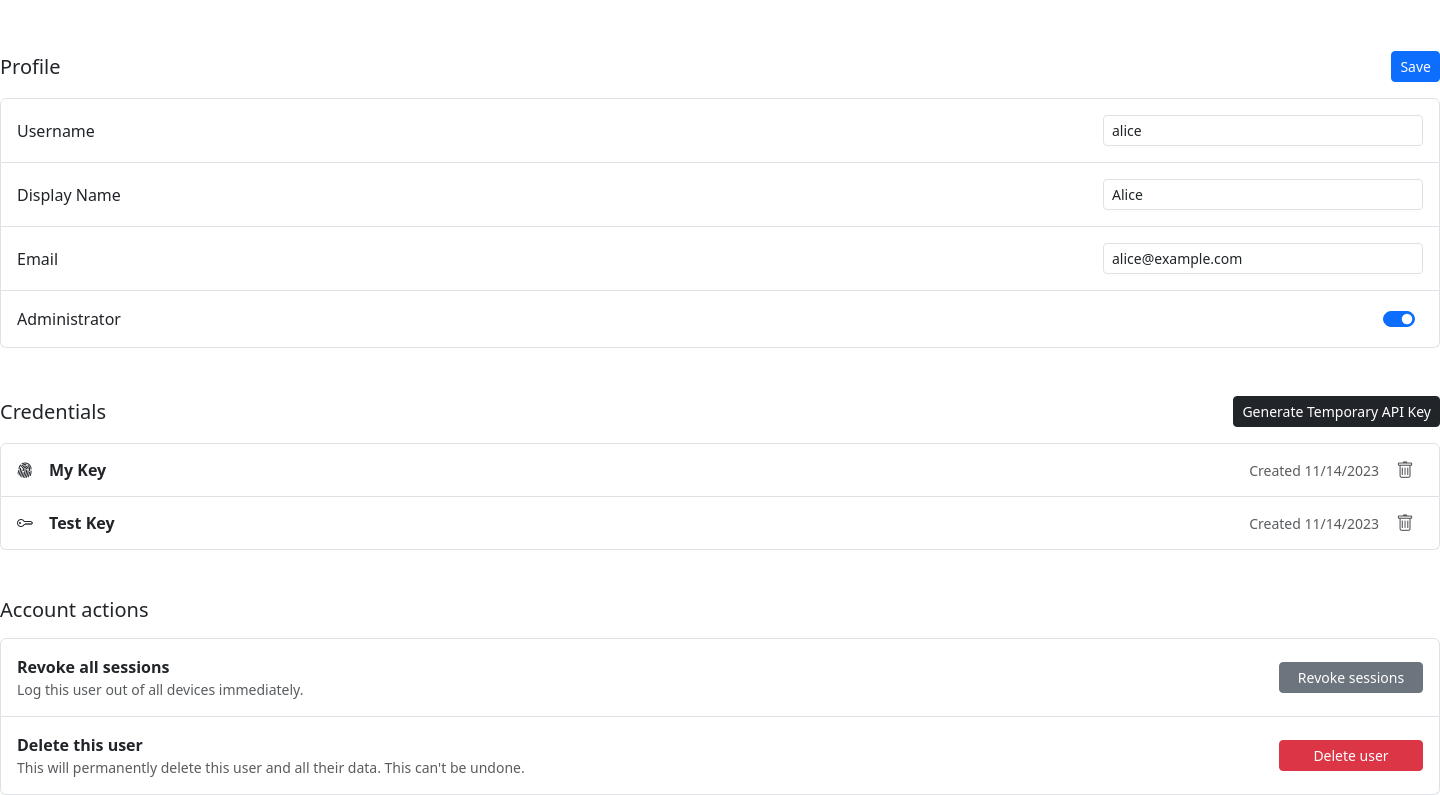
Test: AdminUserDetailPage › enables delete button only when username matches
The width and height of the screenshot is (1440, 795).
(page scrolled)
Click the button "Delete user" at (1351, 756), box 1279,740 -> 1423,771
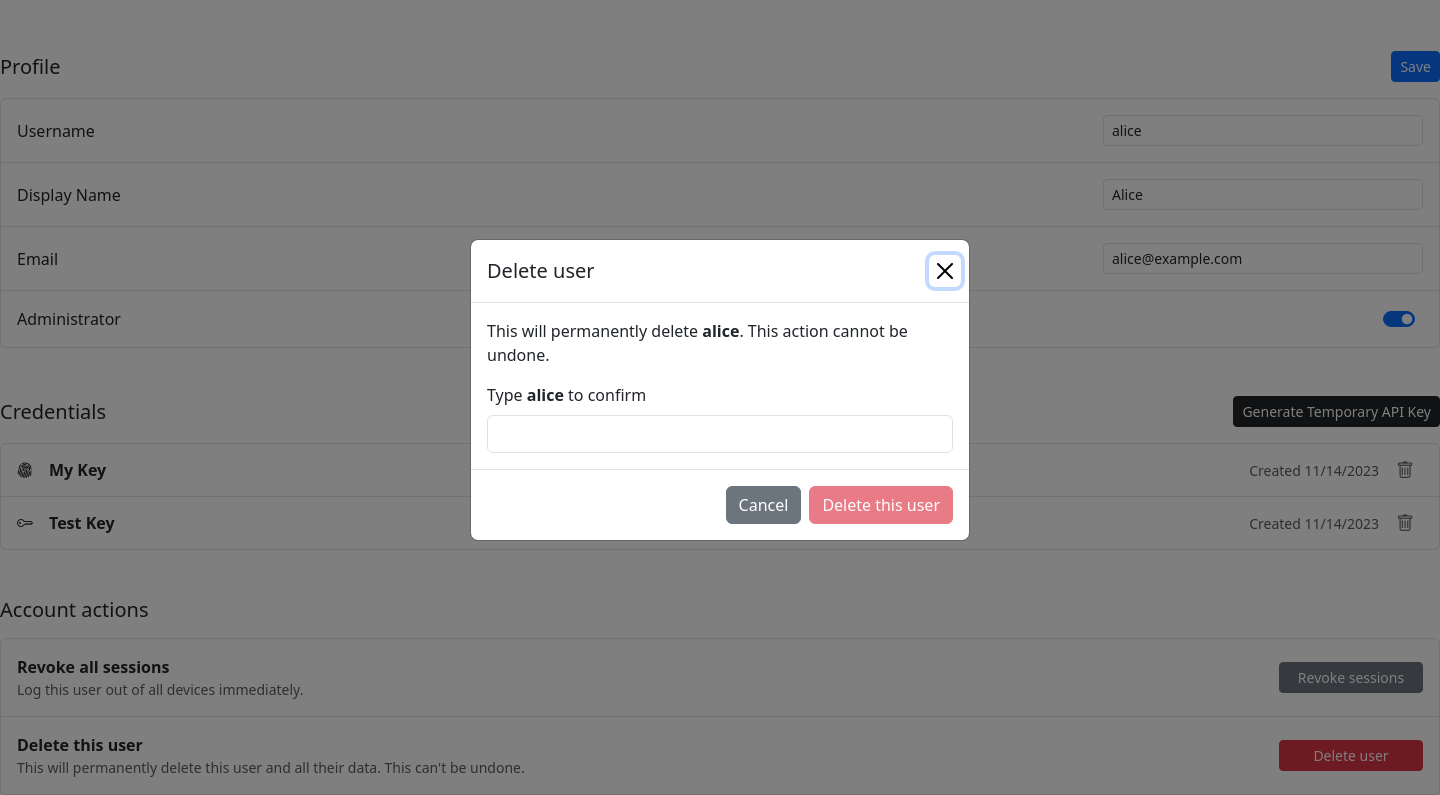
Type "wrong" into the field labelled "Type alice to confirm" at (720, 434), box 487,415 -> 953,453
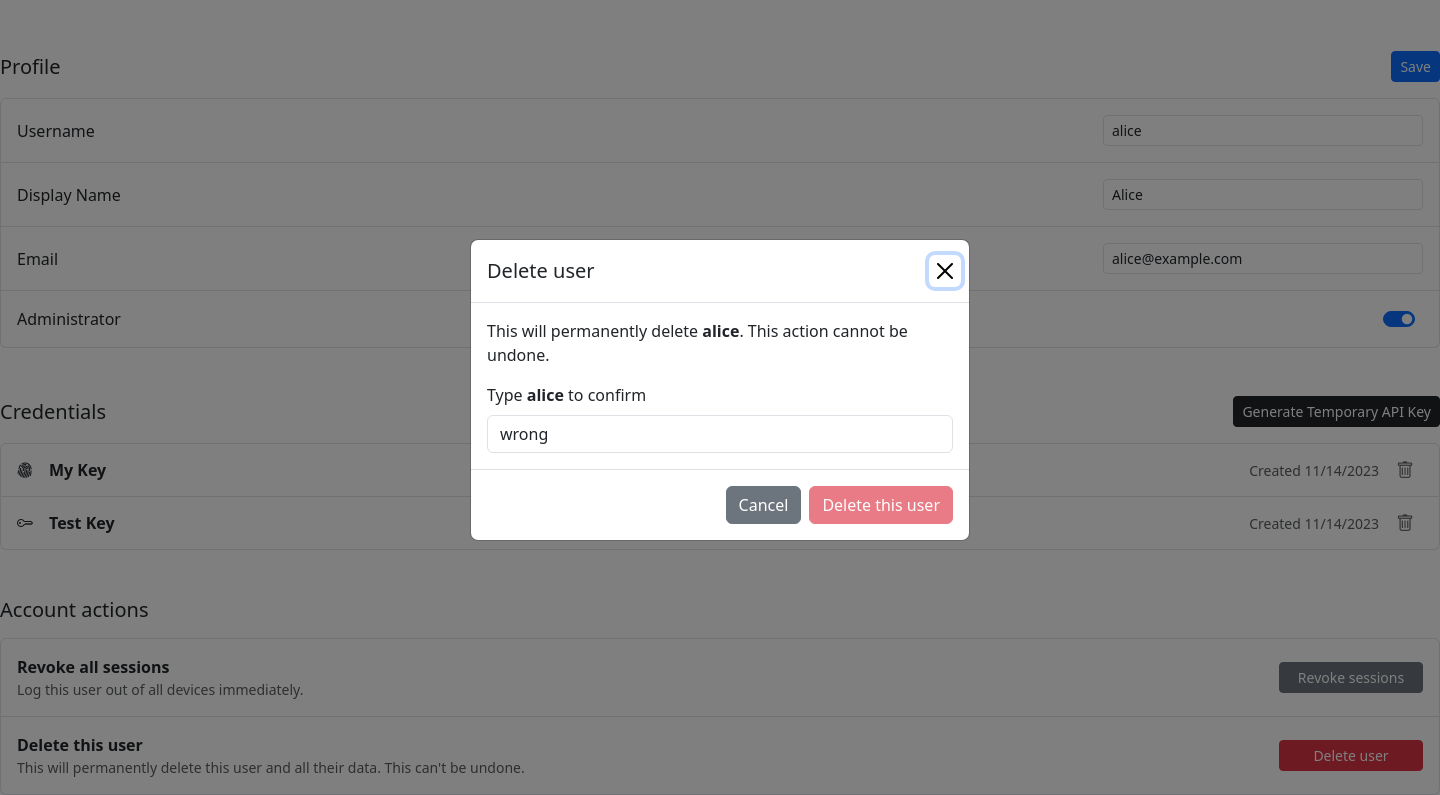
Expected: the button "Delete this user" is disabled, 809,486 -> 953,524
Replace the text in the field labelled "Type alice to confirm" with "alice" at (720, 434), box 487,415 -> 953,453
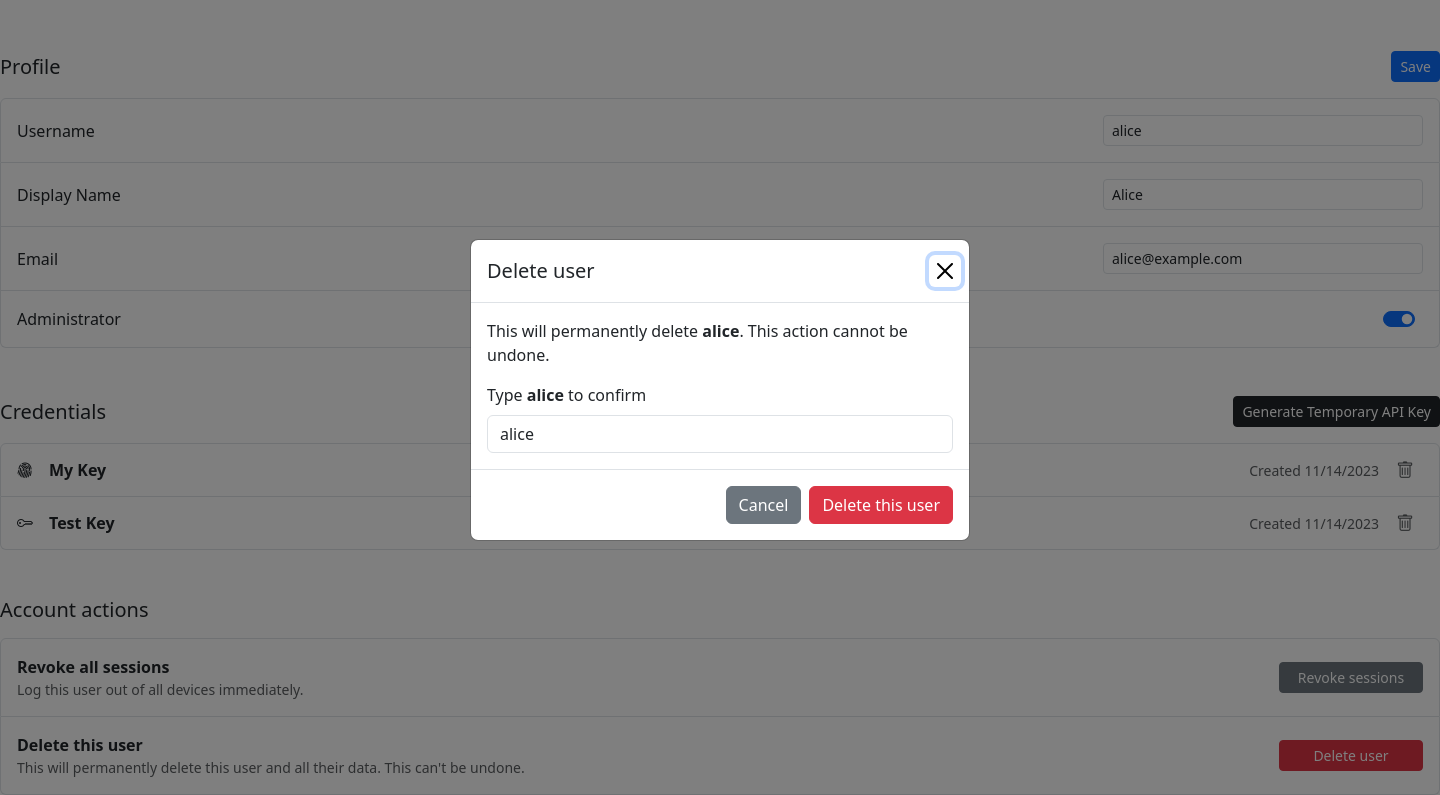
Expected: the button "Delete this user" is enabled, 809,486 -> 953,524
